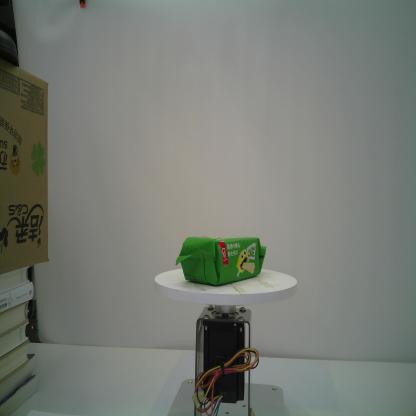Dessert: (175, 233, 267, 289)
